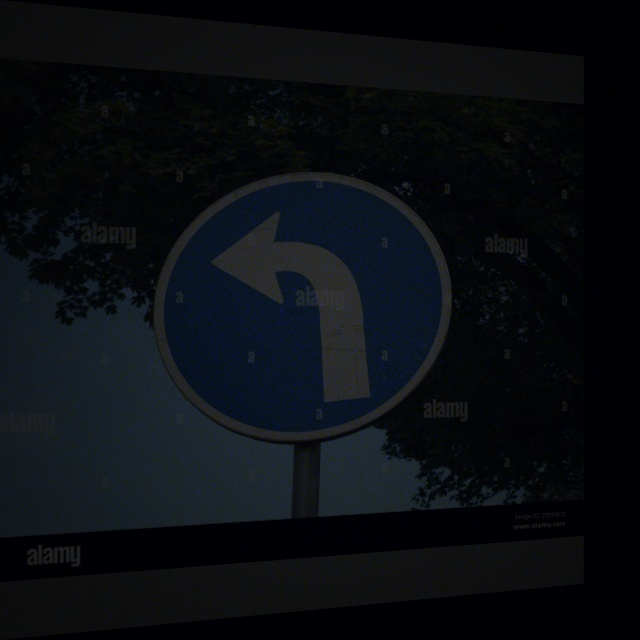Compulsory_Turn_Left_Ahead: (155, 164, 447, 453)
